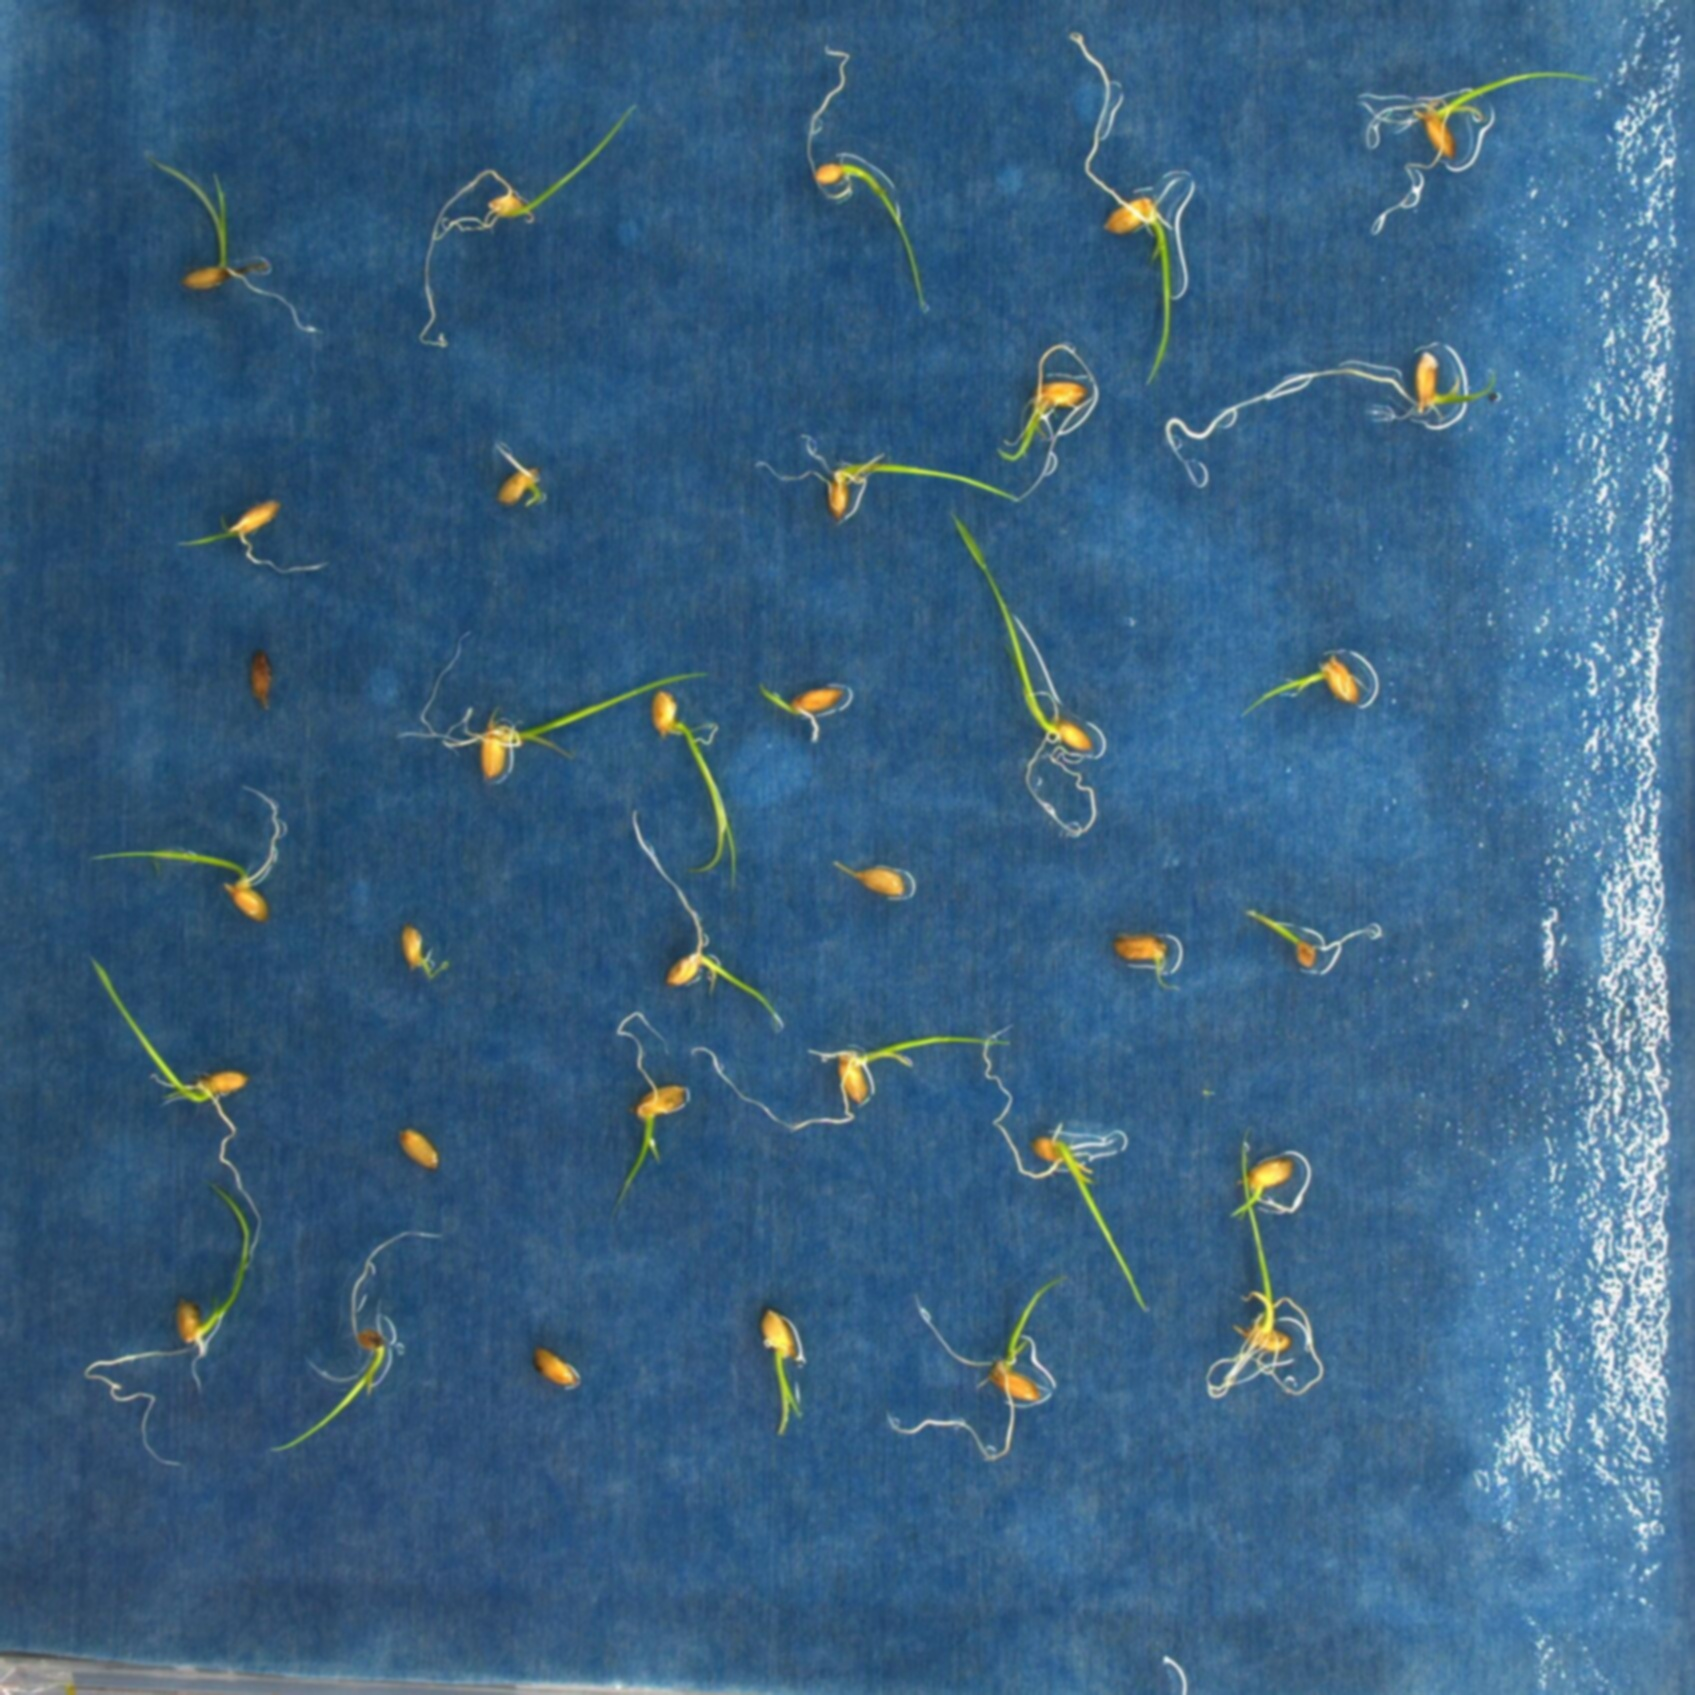not sprout: (1111, 934, 1181, 987), (832, 857, 906, 896), (400, 920, 449, 979), (536, 1347, 584, 1392), (248, 649, 276, 712), (396, 1132, 436, 1167)
sprout: (413, 99, 636, 348), (92, 955, 262, 1259), (948, 512, 1108, 837), (393, 624, 712, 779), (981, 1024, 1152, 1313), (1164, 349, 1503, 492), (85, 1180, 251, 1468), (1355, 73, 1603, 234), (269, 1231, 442, 1454), (1069, 31, 1175, 385), (632, 809, 785, 1031), (888, 1271, 1068, 1459), (1205, 1124, 1324, 1402), (804, 45, 927, 312), (689, 1035, 1010, 1133), (88, 782, 284, 924), (155, 163, 315, 335), (751, 436, 1021, 522), (647, 691, 739, 891), (613, 1007, 695, 1215), (997, 345, 1101, 504), (172, 500, 324, 576), (1239, 655, 1363, 722), (1245, 910, 1380, 969), (757, 683, 851, 748), (761, 1312, 807, 1436), (1231, 1156, 1296, 1223), (497, 442, 549, 509)
